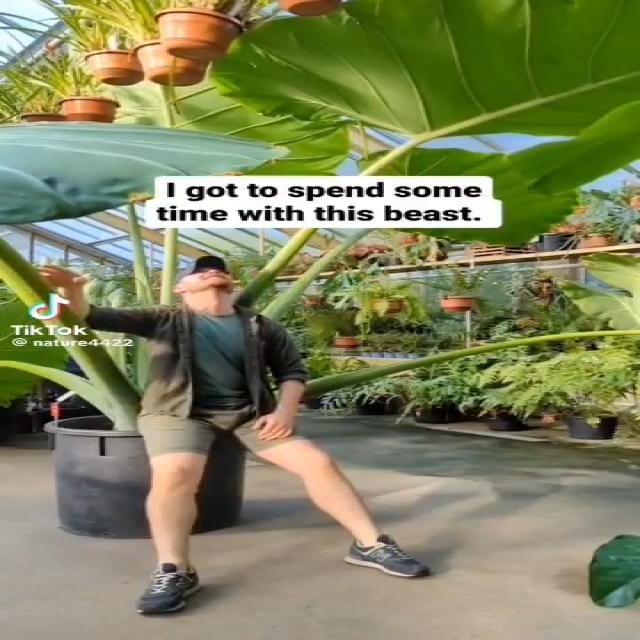roslina_zdrowa: (0, 0, 640, 248)
